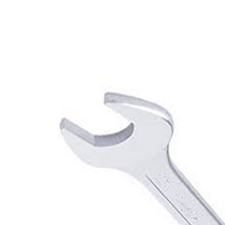Wrench: (52, 84, 225, 225)
